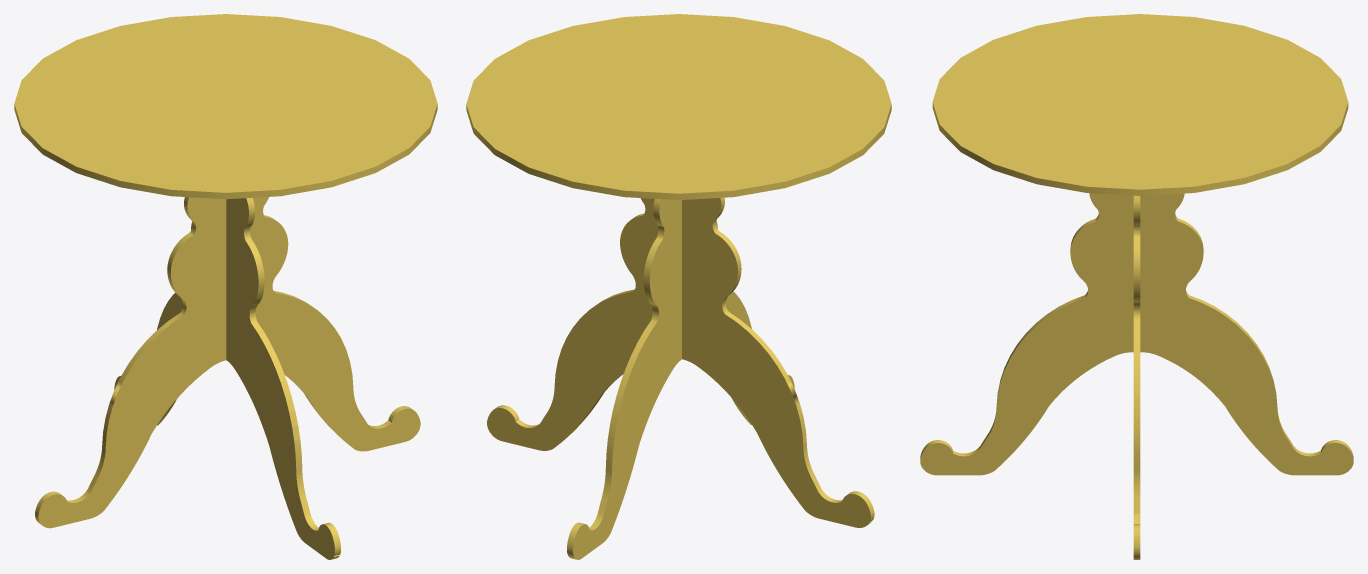
Rendered from hemnes_table_1_obj0_object.obj.
The picture shows the model from 3 angles, left to right: view 1: azimuth 30°, elevation 25°; view 2: azimuth 150°, elevation 25°; view 3: azimuth 270°, elevation 25°; orthographic projection. The views are drawn at different scales.
Parts seen in each view (by area): view 1: Mesh1 HEMNES_round_table1 Model; view 2: Mesh1 HEMNES_round_table1 Model; view 3: Mesh1 HEMNES_round_table1 Model.
Part boxes in pixels (x1,y1,x2,y2): Mesh1 HEMNES_round_table1 Model: (14,14,437,559); Mesh1 HEMNES_round_table1 Model: (466,14,891,559); Mesh1 HEMNES_round_table1 Model: (920,14,1353,559).
Size of the model in its own units: 31.15 by 29.5 by 31.15.
